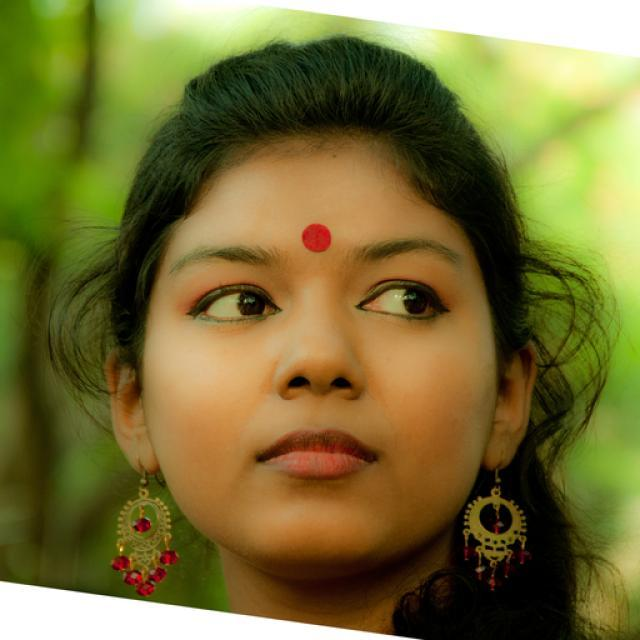neutral: (142, 135, 498, 566)
